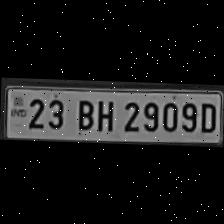0: (160, 97, 178, 132)
2: (118, 98, 140, 134), (23, 95, 44, 131)
3: (44, 94, 66, 130)
9: (139, 97, 159, 132), (178, 98, 198, 133)
B: (72, 96, 94, 130)
D: (197, 100, 217, 134)
H: (92, 95, 116, 132)
